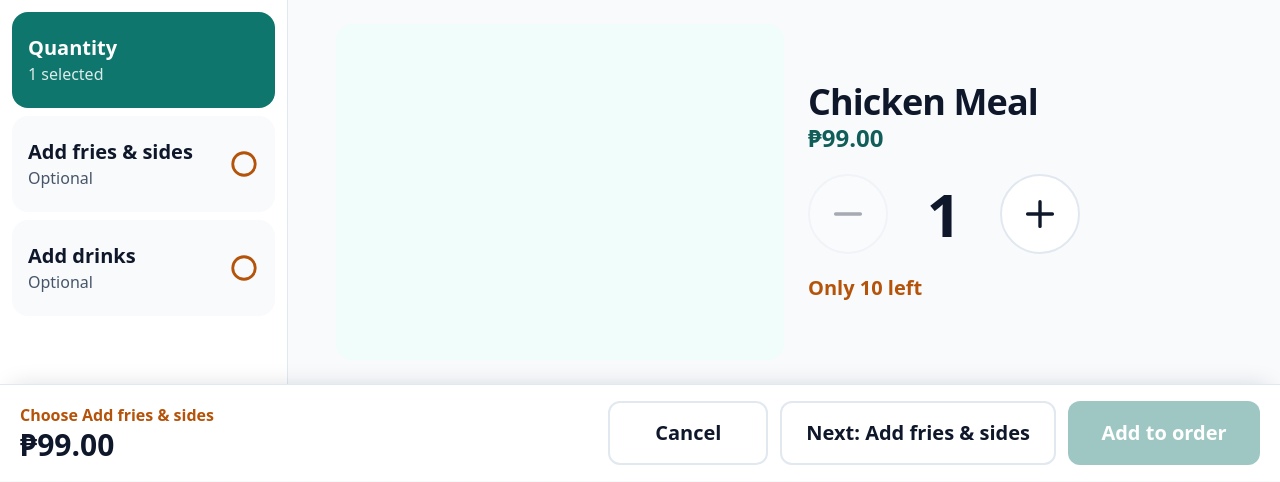
Test case: KioskItemPage › with modifier groups › puts each group in its own tab and will not add until every group has an explicit choice
This screenshot has width=1280, height=482.
Expected: the button "Add to order" is disabled, [1068, 401, 1260, 465]
Expected: the message reads "Choose Add fries & sides", [20, 404, 214, 426]
Click the tab "Add fries & sides Optional". click: coordinates (144, 164)
box: [12, 116, 275, 212]
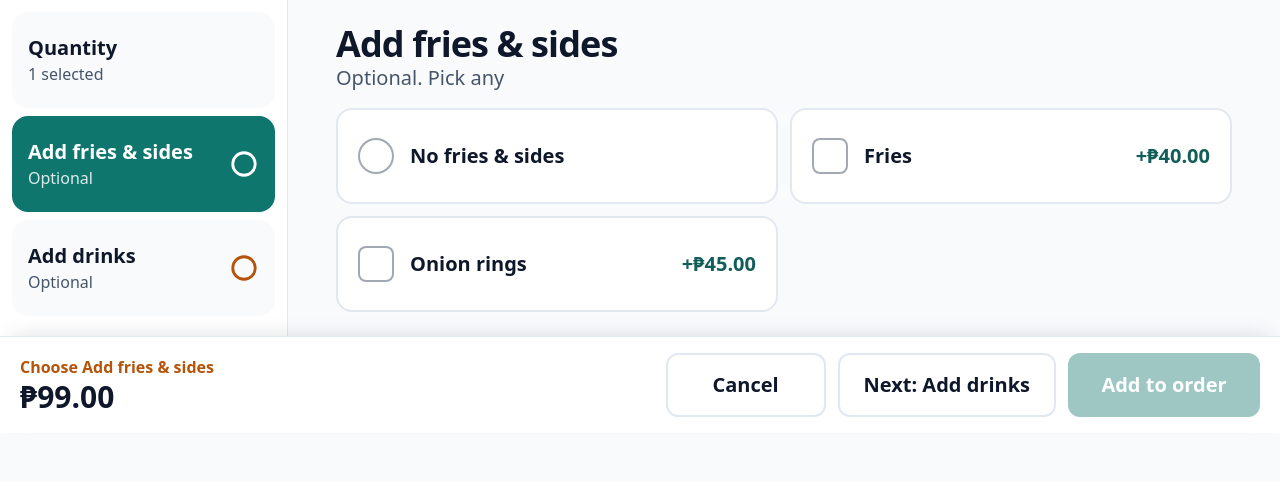
Click the radio button labelled "No fries & sides". click: coordinates (557, 156)
box: [336, 108, 778, 204]
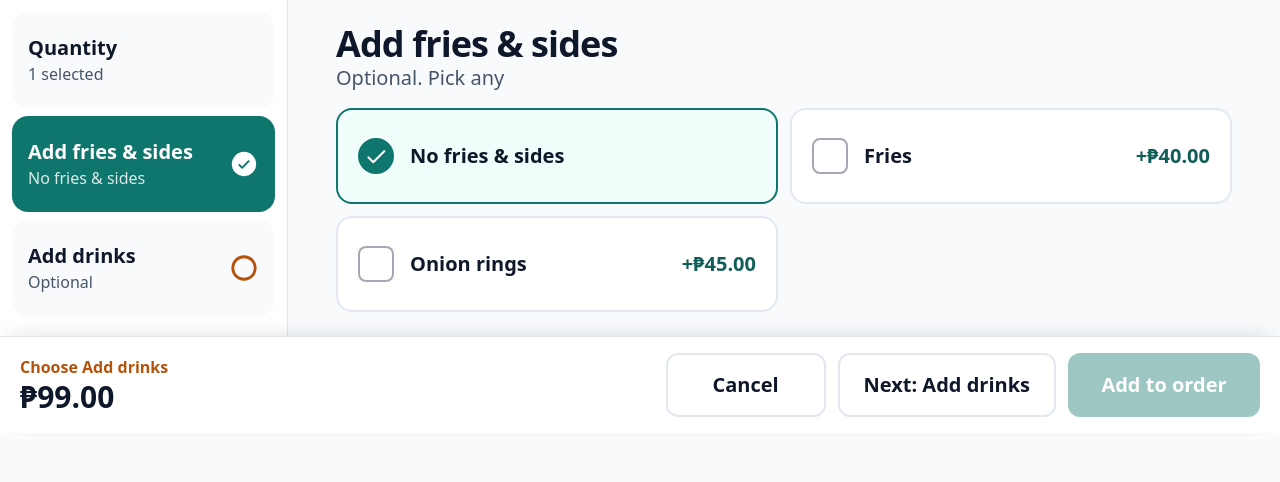
Expected: the button "Add to order" is disabled, [1068, 353, 1260, 417]
Expected: the message reads "Choose Add drinks", [20, 356, 168, 378]
Click the tab "Add drinks Optional". click: coordinates (82, 256)
box: [12, 220, 275, 316]
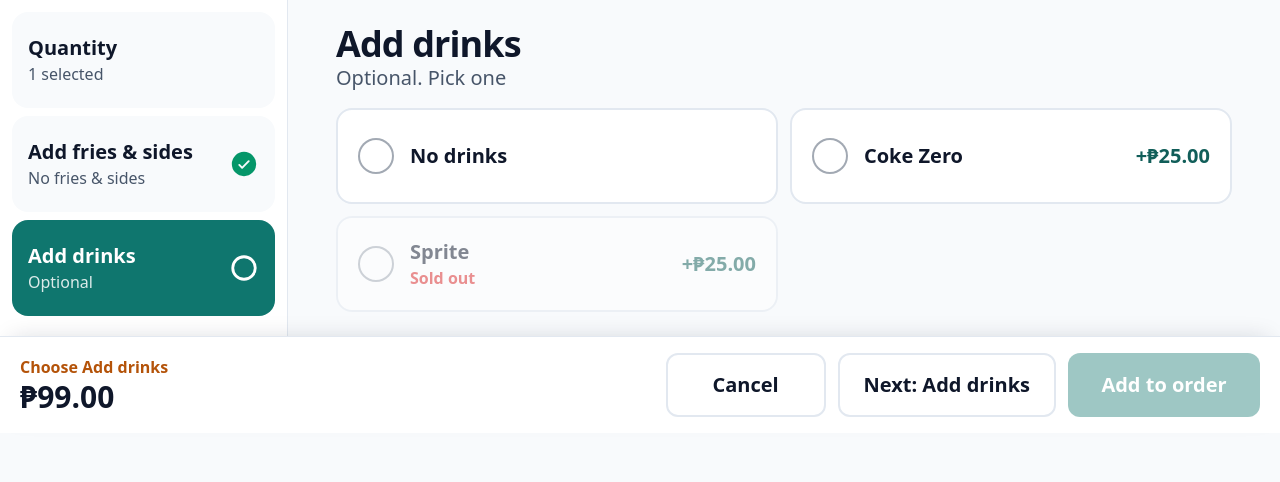
Click the radio button labelled "No drinks". click: coordinates (376, 156)
box: [336, 108, 778, 204]
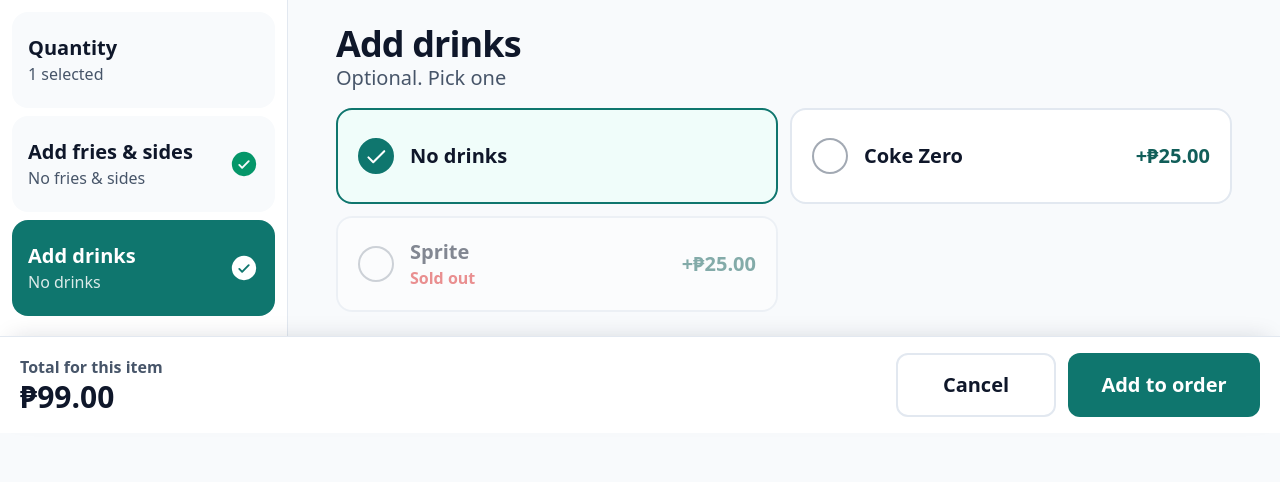
Expected: the button "Add to order" is enabled, [1068, 353, 1260, 417]
